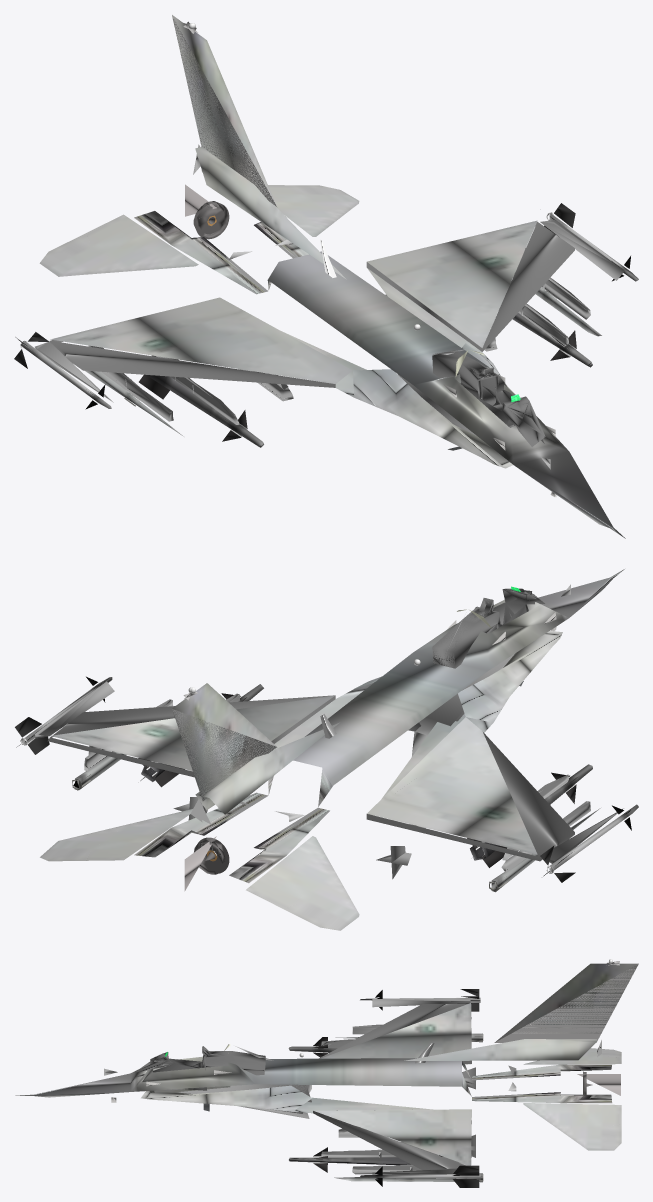
The model's file is fighter-lo.glb.
3 views of the same model, one above another, from view 1: azimuth 30°, elevation 25°; view 2: azimuth 150°, elevation 25°; view 3: azimuth 270°, elevation 25° (orthographic). The views are drawn at different scales.
Bounding box in the file's own units: 9.39 × 3.92 × 13.5.
Materials: 27 (5 with a texture image).
